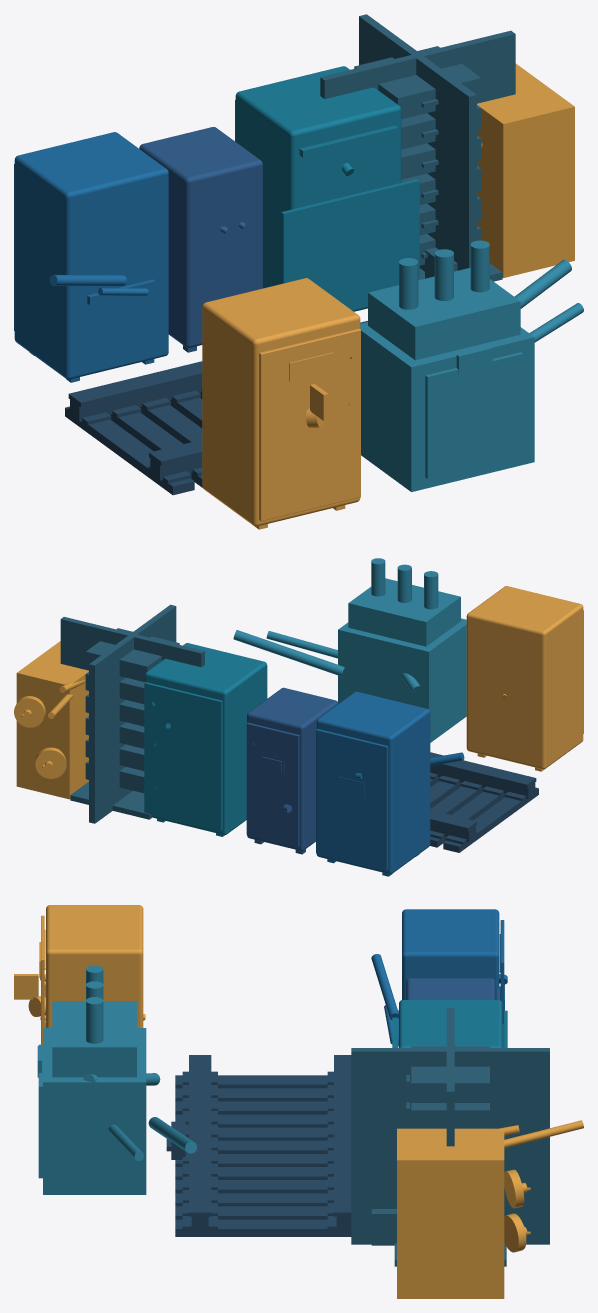
The model's file is regentransit.glb.
3 renders of one model, top to bottom at view 1: azimuth 30°, elevation 25°; view 2: azimuth 150°, elevation 25°; view 3: azimuth 270°, elevation 25°, orthographic. The views are drawn at different scales.
Parts seen in each view (by area): view 1: regentransit.grid_wayside_interface, regentransit.protection_switchgear, regentransit.traction_inverter, regentransit.wayside_converter, regentransit.storage_rack, regentransit.braking_control, regentransit.thermal_management, regentransit.rail_interface; view 2: regentransit.protection_switchgear, regentransit.traction_inverter, regentransit.wayside_converter, regentransit.grid_wayside_interface, regentransit.storage_rack, regentransit.braking_control, regentransit.thermal_management, regentransit.rail_interface; view 3: regentransit.rail_interface, regentransit.storage_rack, regentransit.grid_wayside_interface, regentransit.thermal_management, regentransit.protection_switchgear, regentransit.traction_inverter, regentransit.wayside_converter, regentransit.braking_control.
Boxes of the visible parts, box(x1,y1,x2,y2) form: regentransit.grid_wayside_interface: box(360, 240, 583, 491); regentransit.protection_switchgear: box(202, 278, 360, 529); regentransit.traction_inverter: box(14, 132, 168, 382); regentransit.wayside_converter: box(235, 66, 419, 311); regentransit.storage_rack: box(320, 14, 515, 281); regentransit.braking_control: box(139, 127, 262, 352); regentransit.thermal_management: box(477, 63, 574, 277); regentransit.rail_interface: box(65, 321, 367, 495); regentransit.protection_switchgear: box(466, 586, 583, 771); regentransit.traction_inverter: box(316, 691, 464, 876); regentransit.wayside_converter: box(144, 643, 267, 836); regentransit.grid_wayside_interface: box(233, 558, 466, 742); regentransit.storage_rack: box(60, 604, 204, 823); regentransit.braking_control: box(246, 687, 338, 854); regentransit.thermal_management: box(14, 641, 88, 799); regentransit.rail_interface: box(430, 752, 538, 852); regentransit.rail_interface: box(166, 1055, 351, 1236); regentransit.storage_rack: box(351, 1008, 549, 1266); regentransit.grid_wayside_interface: box(37, 965, 196, 1194); regentransit.thermal_management: box(397, 1120, 583, 1298); regentransit.protection_switchgear: box(14, 905, 145, 1044); regentransit.traction_inverter: box(371, 909, 507, 1047); regentransit.wayside_converter: box(392, 1000, 507, 1047); regentransit.braking_control: box(406, 978, 500, 999).
Bounding box in the file's own units: 2689 × 1110 × 2754.
